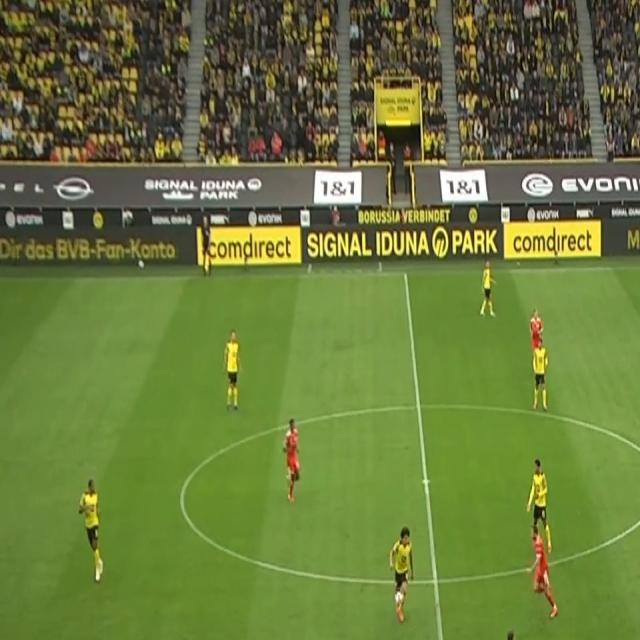ball: (393, 588, 404, 608)
